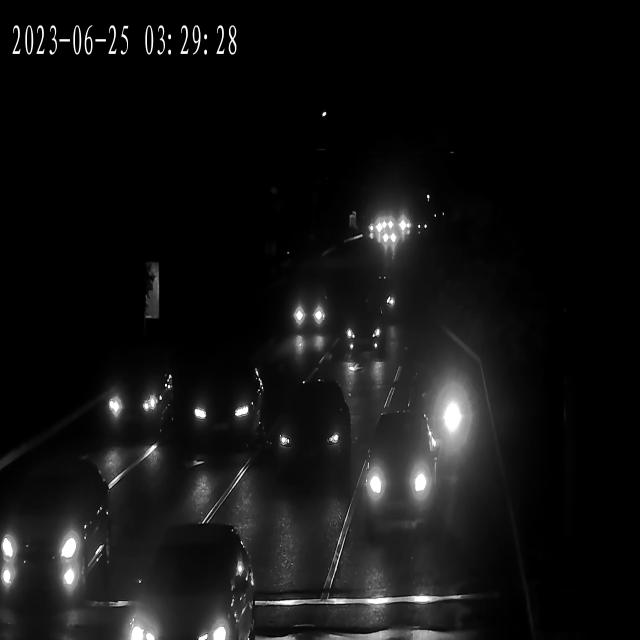Car: (0, 466, 120, 607), (126, 525, 257, 638), (264, 386, 354, 474), (356, 428, 440, 522), (182, 366, 262, 446), (104, 367, 175, 437), (420, 380, 470, 454), (338, 309, 392, 360), (284, 294, 330, 338), (384, 231, 399, 249), (370, 218, 382, 240), (399, 222, 411, 234), (384, 215, 395, 226)
